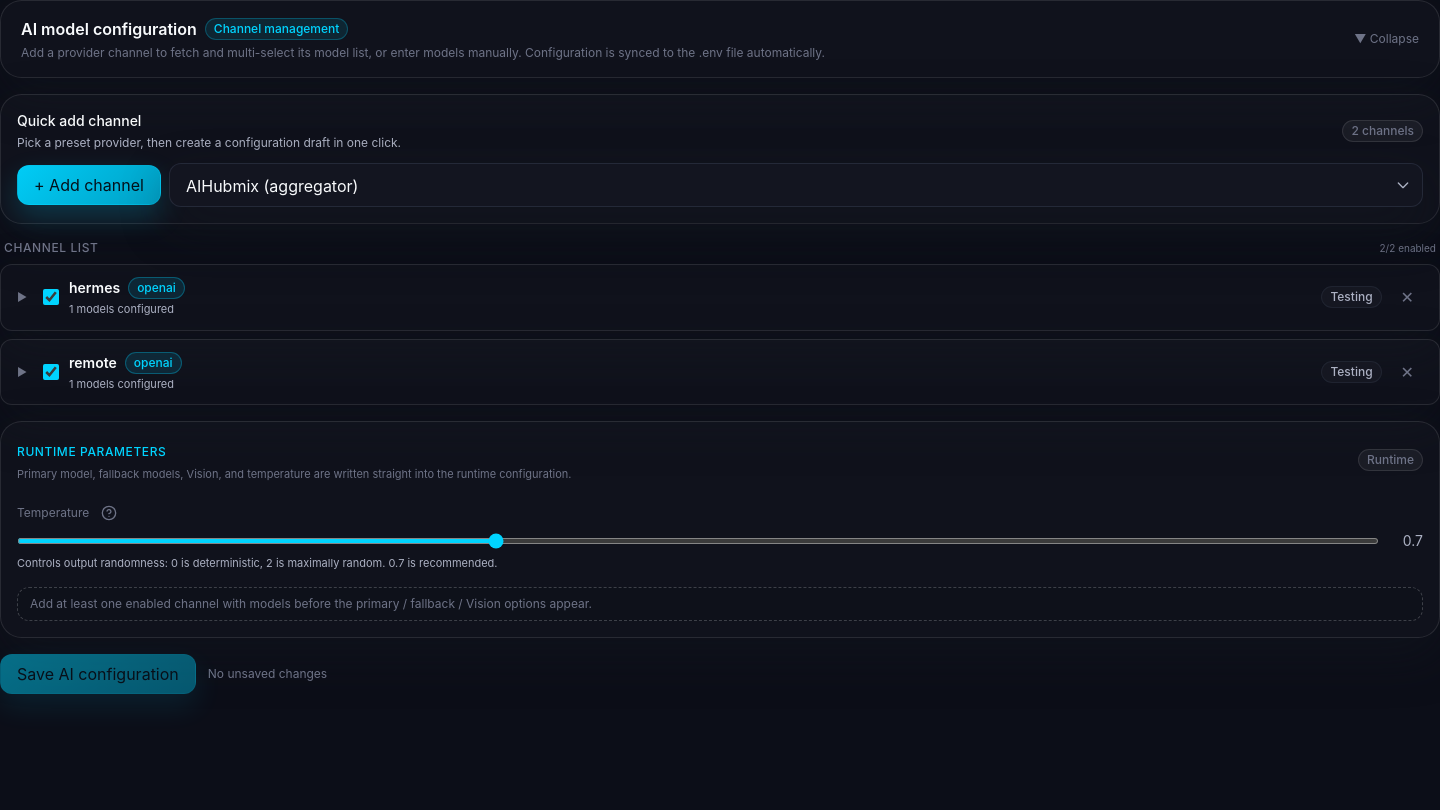
it: LLMChannelEditor › rejects bare mixed Hermes route before saving runtime generation config
Set the slider to "0.2". click: (160, 540)
box: 17,538 -> 1379,544
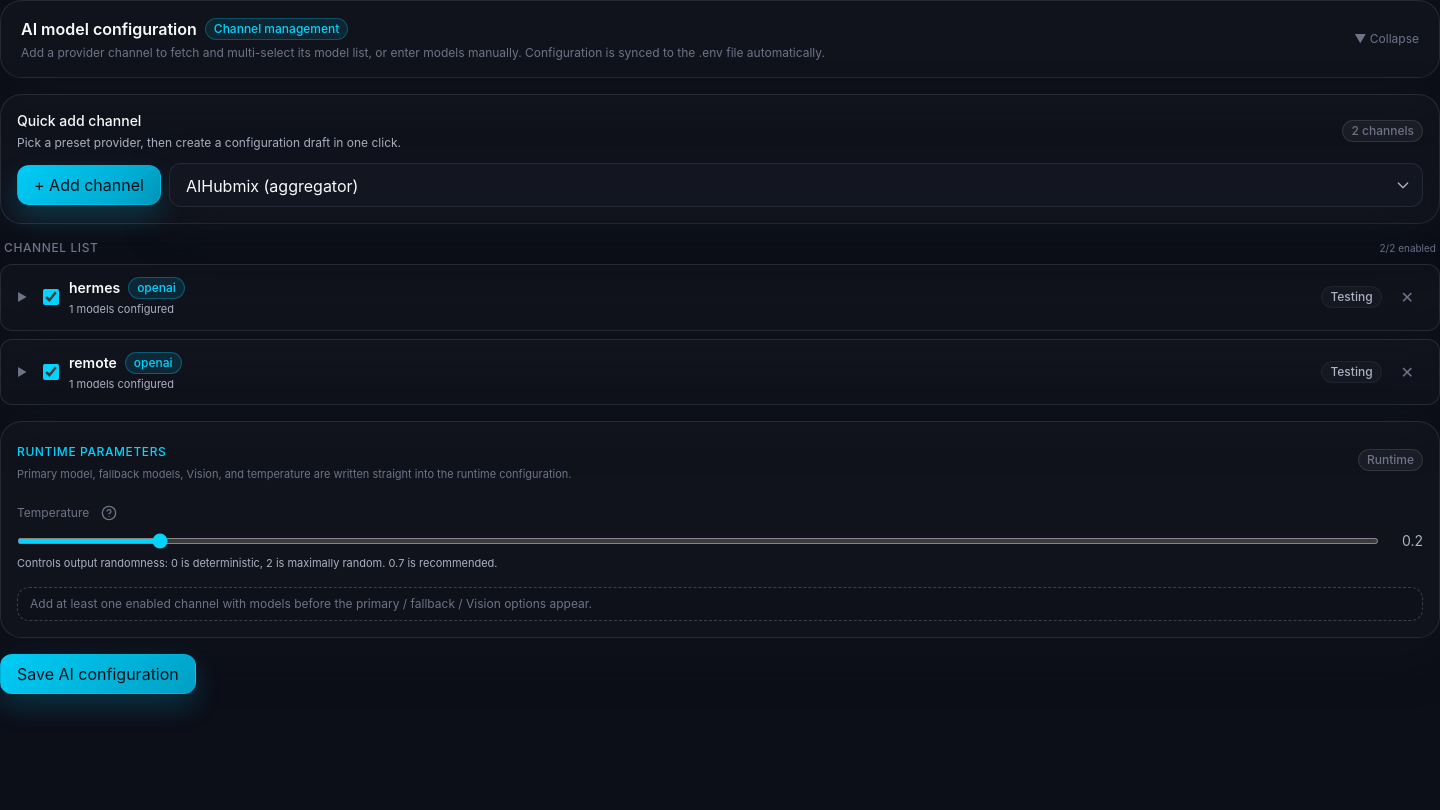
Click the button "Save AI configuration". click: (98, 674)
box: 0,654 -> 196,694
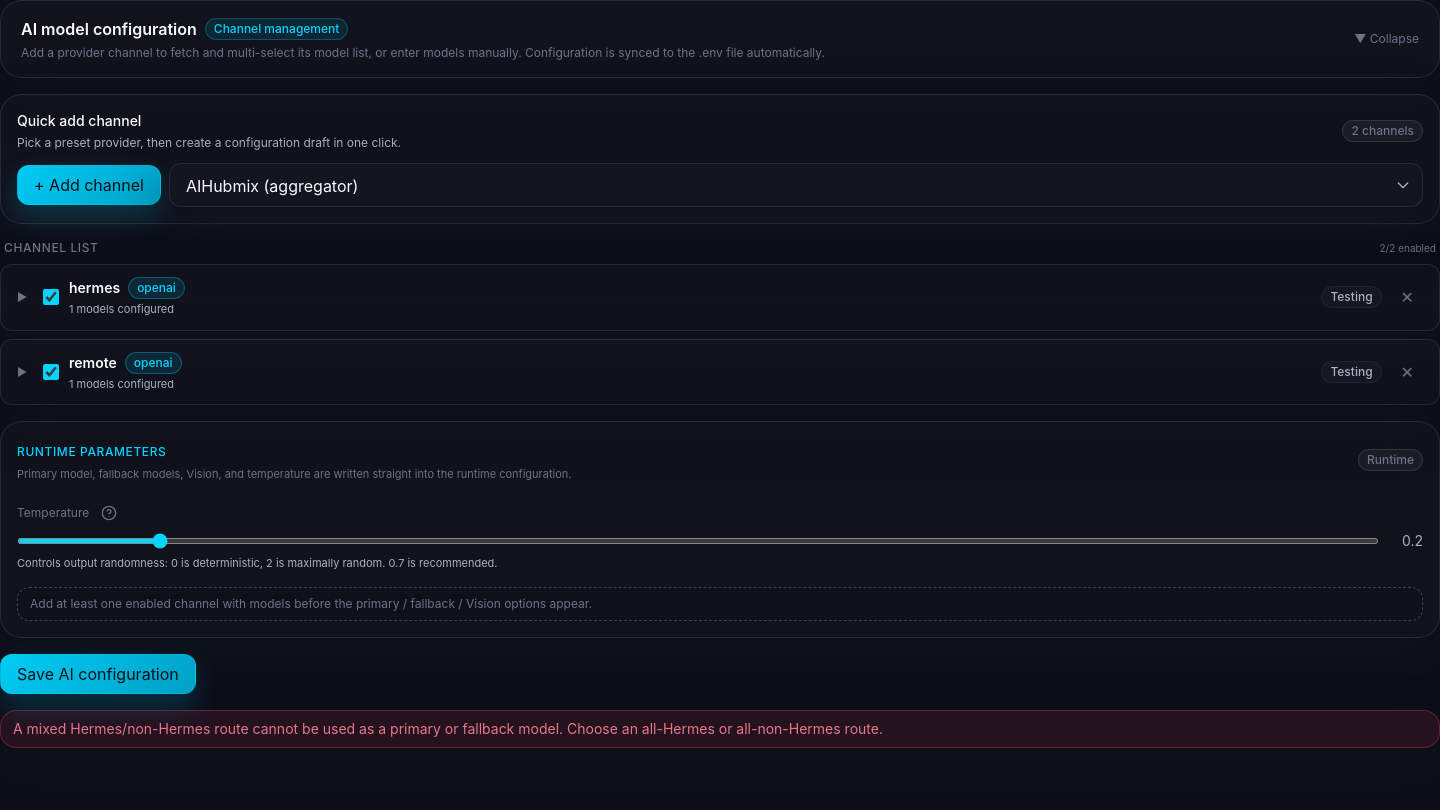
Expected: the text "A mixed Hermes/non-Hermes route cannot be used as a primary or fallback model" is shown, 13,720 -> 883,737
